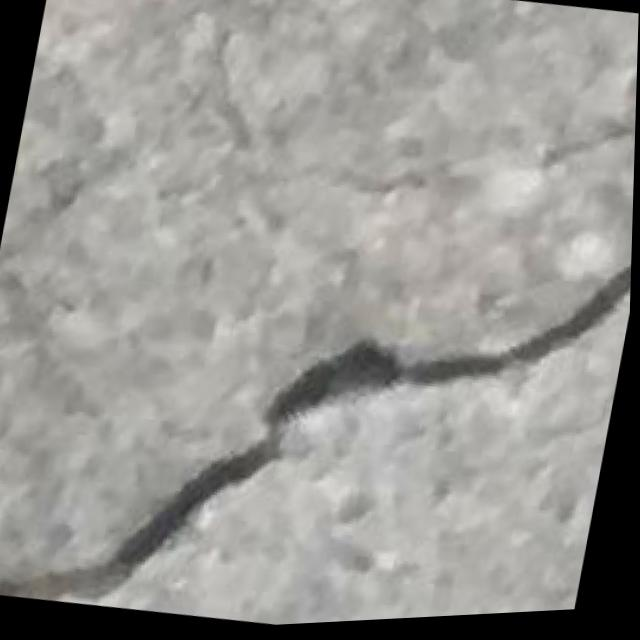Crack: (0, 183, 635, 640)
